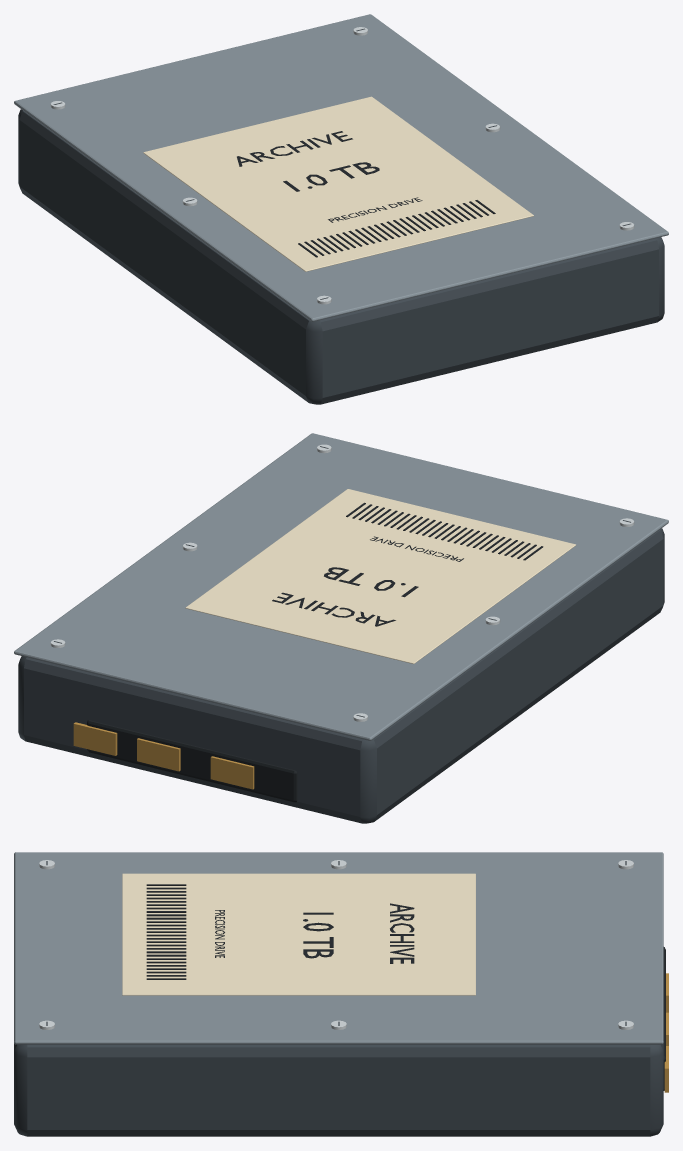
File: 12_Hard_Drive.glb
The picture shows the model from 3 angles, top to bottom: view 1: azimuth 30°, elevation 25°; view 2: azimuth 150°, elevation 25°; view 3: azimuth 270°, elevation 25°; orthographic projection. The views are drawn at different scales.
Visible parts, largest first — view 1: 01_top_cover_and_fasteners, 02_aluminium_base_casting; view 2: 01_top_cover_and_fasteners, 02_aluminium_base_casting; view 3: 01_top_cover_and_fasteners, 02_aluminium_base_casting.
Part boxes in pixels (left/top/right/bottom): 01_top_cover_and_fasteners: left=14, top=14, right=668, bottom=321; 02_aluminium_base_casting: left=18, top=109, right=664, bottom=404; 01_top_cover_and_fasteners: left=14, top=433, right=668, bottom=740; 02_aluminium_base_casting: left=18, top=528, right=664, bottom=823; 01_top_cover_and_fasteners: left=14, top=852, right=663, bottom=1044; 02_aluminium_base_casting: left=14, top=947, right=668, bottom=1136.
Size of the model in its own units: 0.1016 by 0.0259 by 0.1482.
